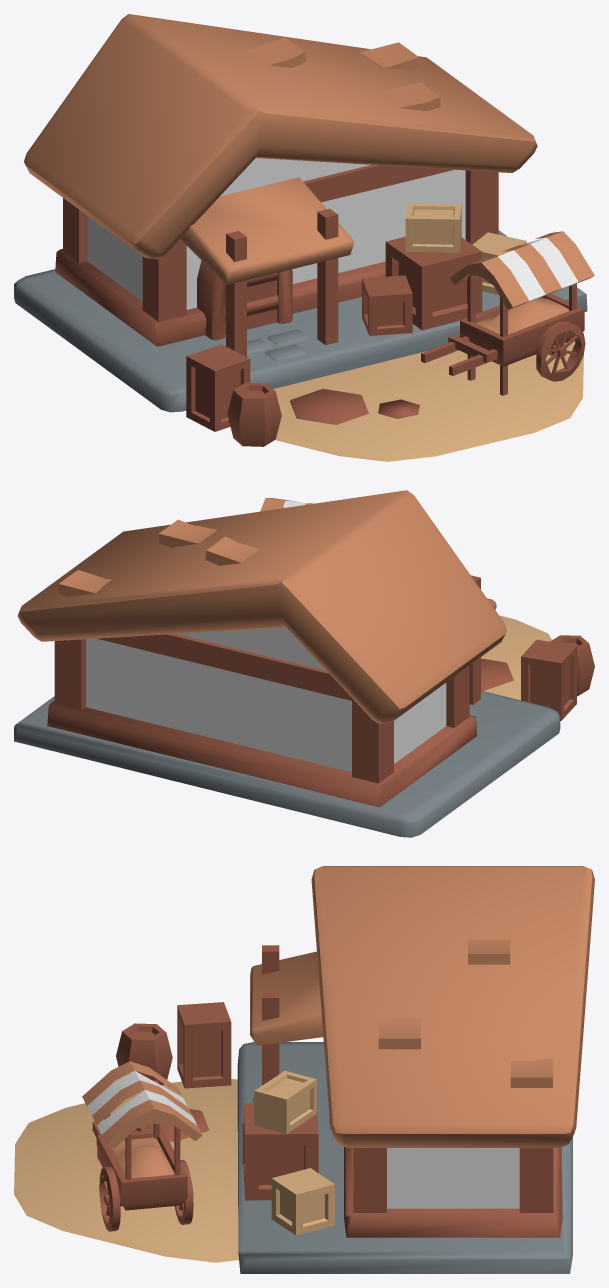
The model's file is market.glb.
3 renders of one model, top to bottom at view 1: azimuth 30°, elevation 25°; view 2: azimuth 150°, elevation 25°; view 3: azimuth 270°, elevation 25°, orthographic. The views are drawn at different scales.
Visible parts, largest first — view 1: market; view 2: market; view 3: market.
Part boxes in pixels (box(x1,y1,x2,y2)): market: box(14, 14, 594, 461); market: box(14, 490, 594, 837); market: box(14, 866, 594, 1273).
Bounding box in the file's own units: 5.88 × 3.46 × 6.7.
